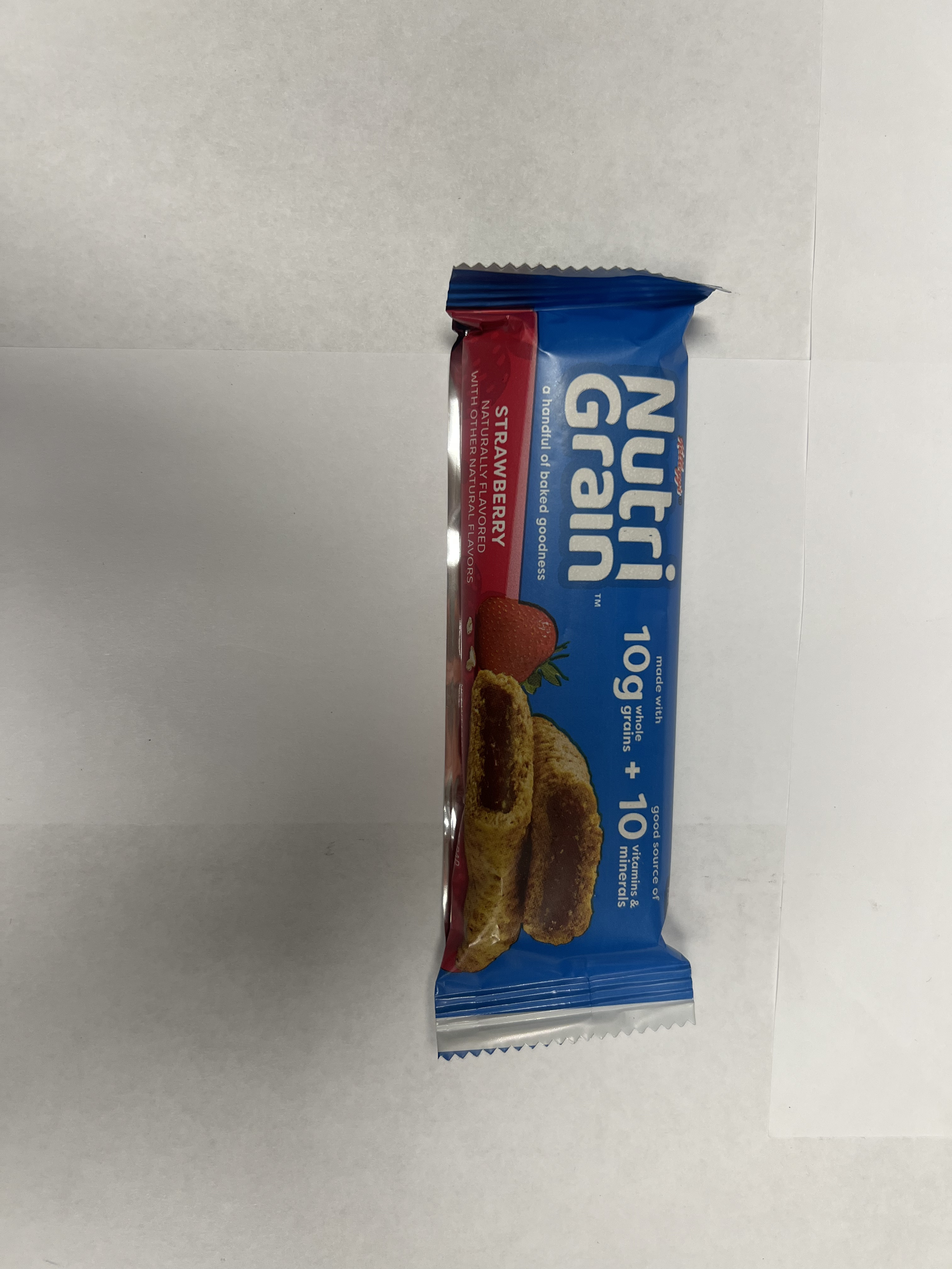packaged: (431, 258, 715, 1056)
